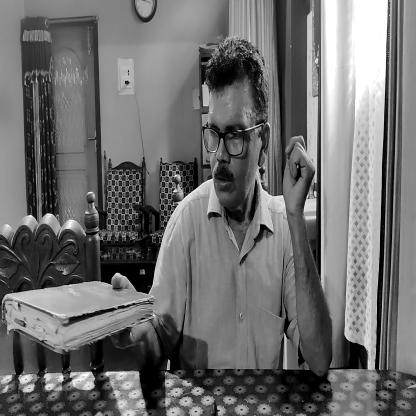Distracted: (198, 37, 266, 222)
